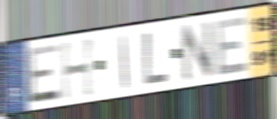E: (215, 13, 250, 78), (26, 41, 61, 106)
H: (59, 35, 98, 103)
I: (119, 34, 130, 90)
L: (142, 30, 171, 87)
N: (179, 18, 215, 84)
